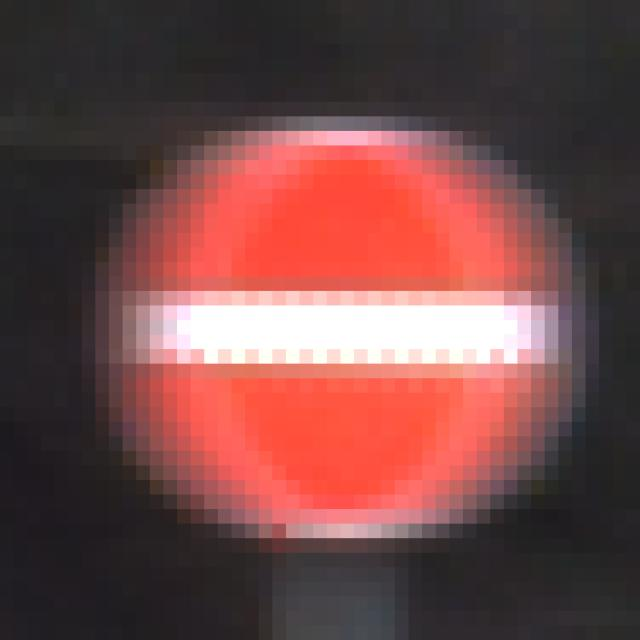No Entry: (83, 89, 573, 569)
